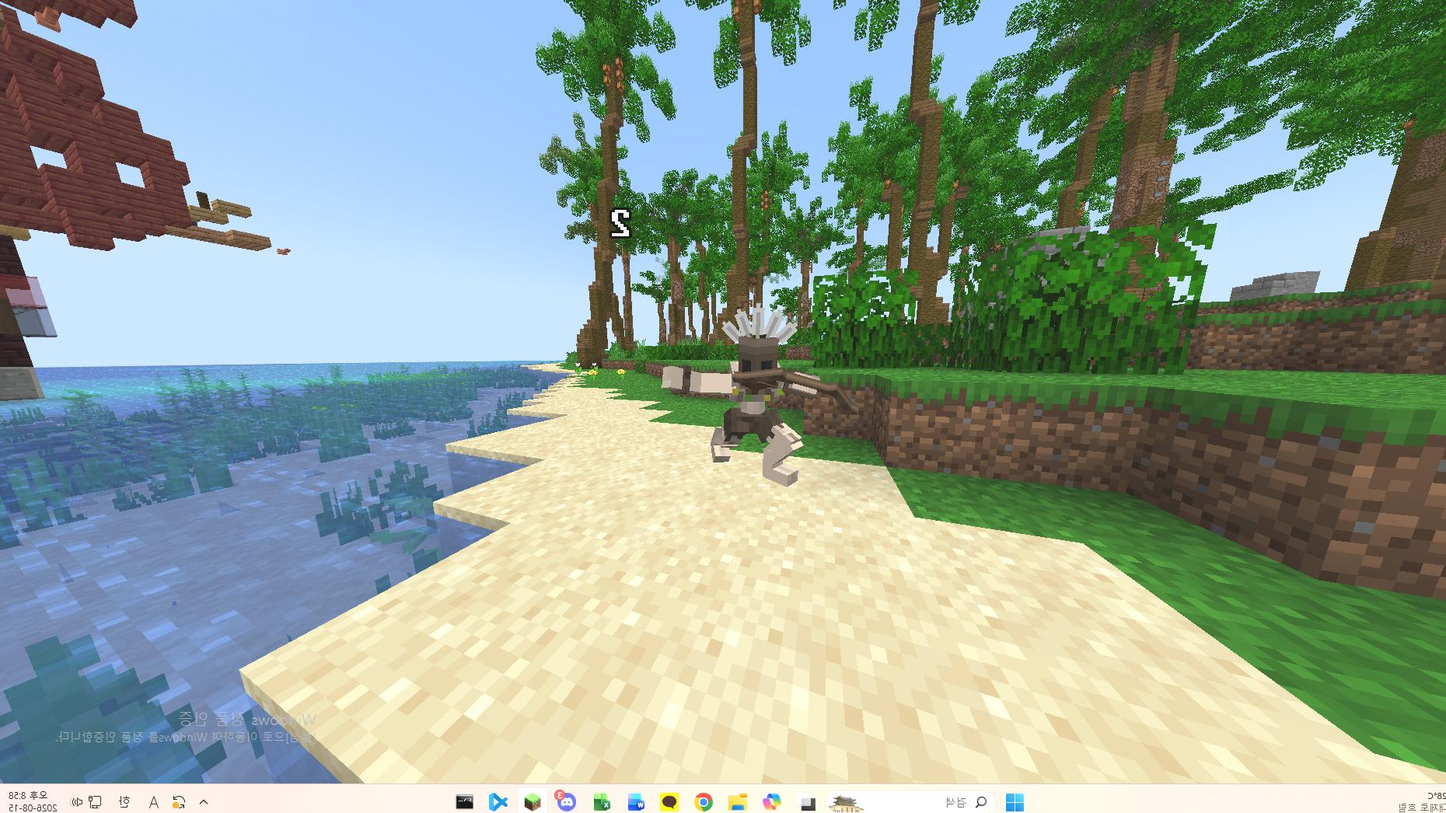bow_indian: (626, 304, 837, 508)
